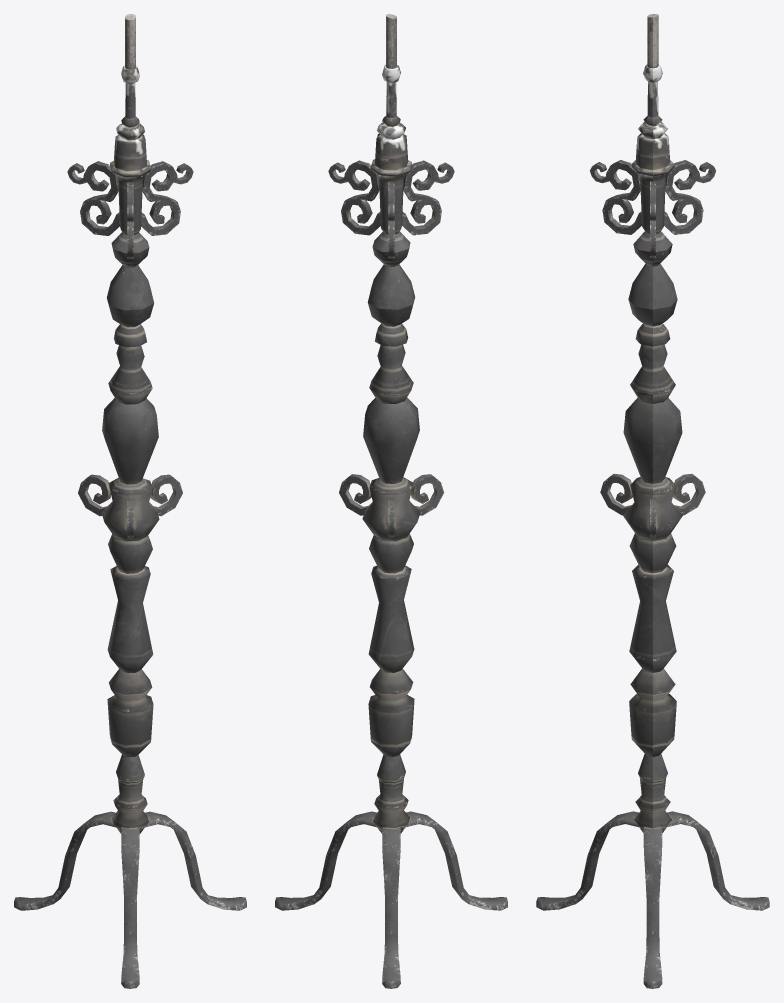
The picture shows the model from 3 angles, left to right: view 1: azimuth 30°, elevation 25°; view 2: azimuth 150°, elevation 25°; view 3: azimuth 270°, elevation 25°; orthographic projection.
Parts seen in each view (by area): view 1: SM_CandleStand01_LOD0; view 2: SM_CandleStand01_LOD0; view 3: SM_CandleStand01_LOD0.
Part boxes in pixels (x1=…): SM_CandleStand01_LOD0: x1=14, y1=14, x2=246, y2=988; SM_CandleStand01_LOD0: x1=275, y1=14, x2=507, y2=988; SM_CandleStand01_LOD0: x1=536, y1=14, x2=769, y2=988.
Bounding box in the file's own units: 0.424 × 2.1 × 0.4842.
Materials: 1 (1 with a texture image).
